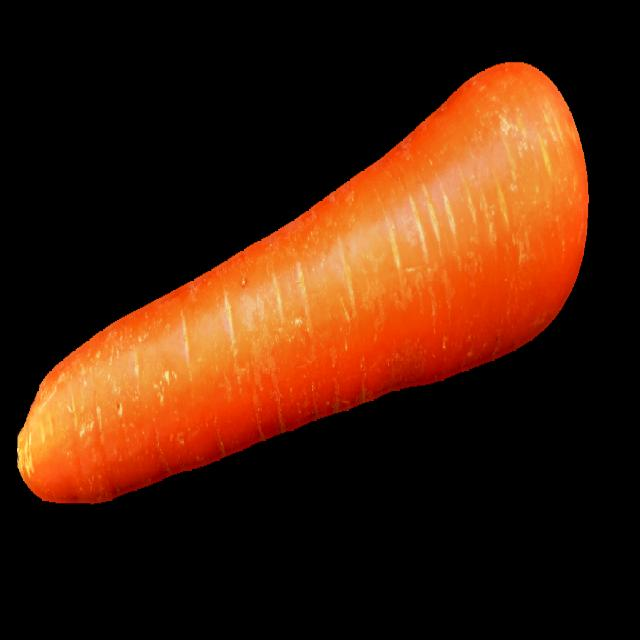Carrot: (19, 65, 592, 501)
